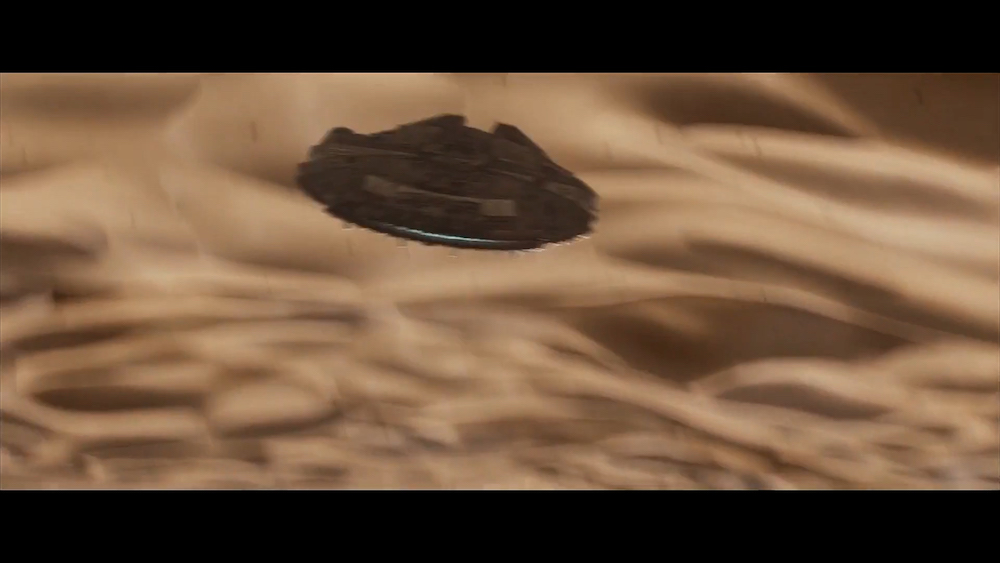Millennium Falcon: (293, 110, 603, 257)
